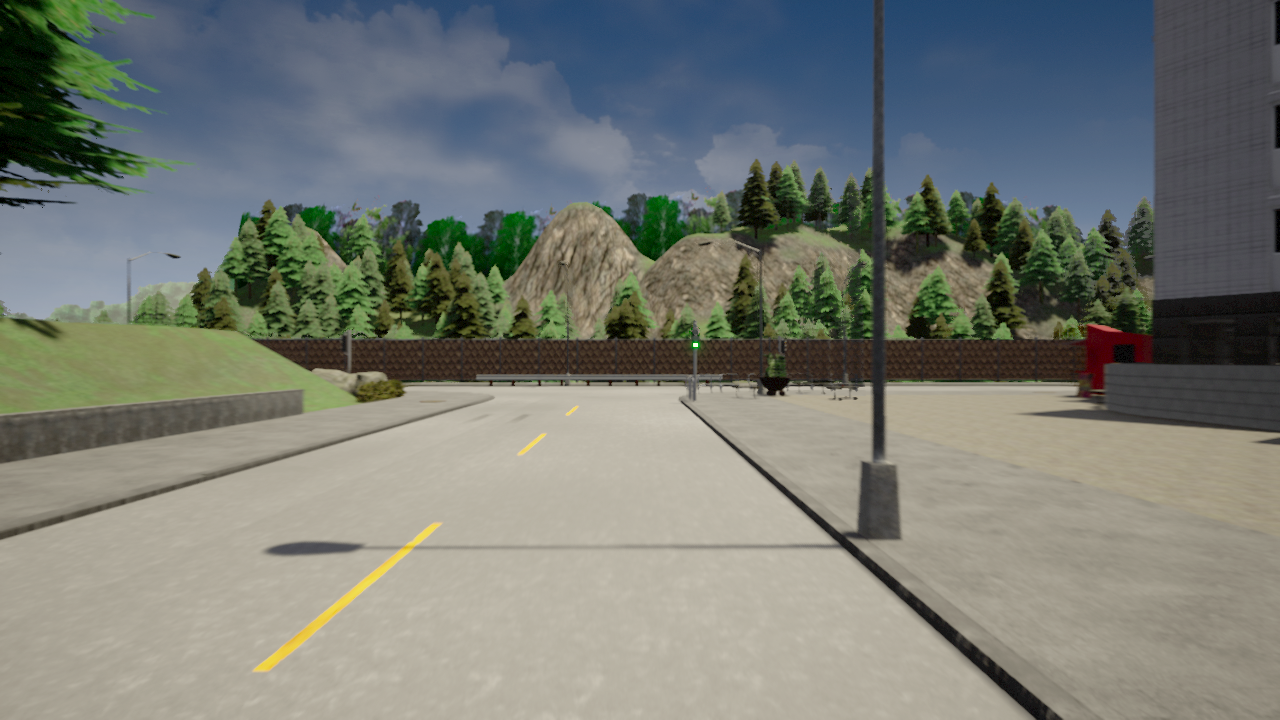green: (690, 325, 700, 350)
